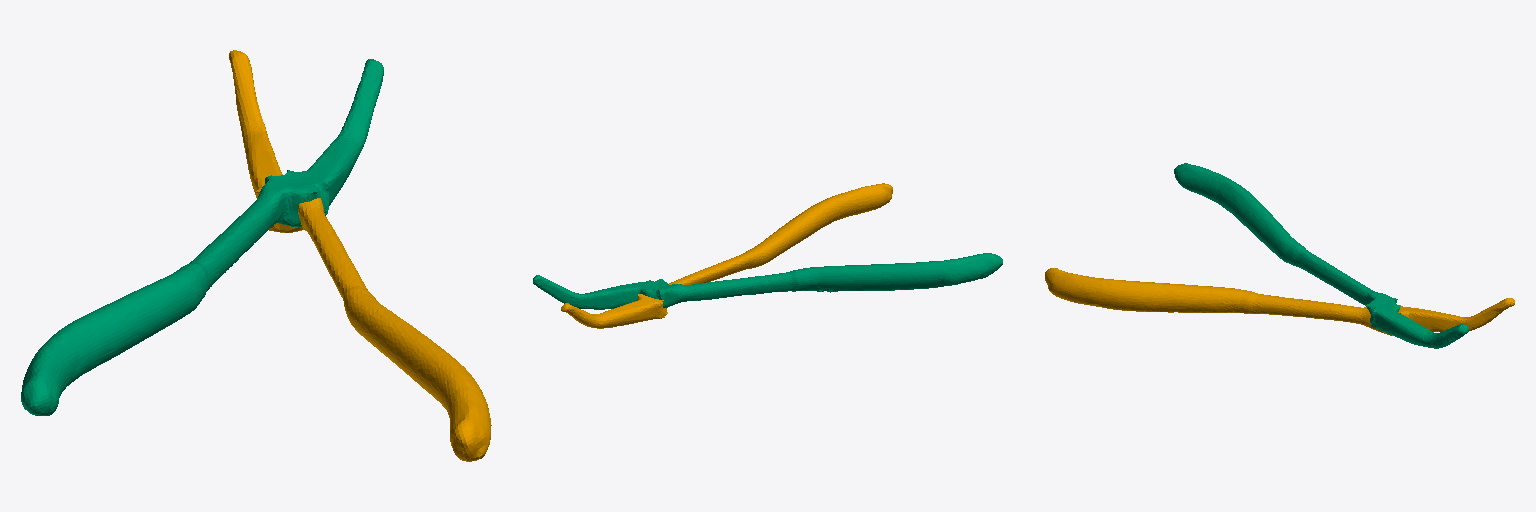
The robot description file, URDF, robot "pliers":
<?xml version="1.0"?>
<robot name="pliers">
  <link name ="rb0">
    <visual>
      <origin xyz='-0.095382 0.092912 -0.006890' rpy='-0.012197 0.205743 1.281811'/>
      <geometry>
        <mesh filename="meshes/plier_right.obj"  scale="1 1 1" />
      </geometry>
    </visual>

     <collision>
      <origin xyz='-0.095382 0.092912 -0.006890' rpy='-0.012197 0.205743 1.281811'/>
      <geometry>
        <mesh filename="meshes/plier_right.obj"  scale="1 1 1" />
      </geometry>
    </collision>

  </link>
  <joint name="j_0_1" type="revolute">
    <parent link="rb0"/>
    <child link="rb1"/>
    <origin xyz="0.0223569265859 0.133487863666 -0.0160430758933" rpy="0 0 0 "/>
    <axis xyz="0.131946910132 0.097630903871 0.986437134092"/>
    <limit effort="30" velocity="1.0" lower="-3.1416" upper="3.1416"/>
  </joint>
  <joint name="j_0_fixed" type="fixed">
    <parent link="rb1"/>
    <child link="rb1_marker"/>
      <origin xyz="-0.125186808686 -0.0532721485993 0.0220988416077" rpy="-3.10727506782 0.115711308822 -0.960168900302"/>
    <limit effort="30" velocity="1.0" lower="-3.1416" upper="3.1416"/>
  </joint>
  <link name ="rb1">
  </link>
  <link name ="rb1_marker">
    <visual>
      <origin xyz='-0.107652 -0.060779 -0.043692' rpy='-2.762002 -0.504377 -1.745148'/>
      <geometry>
        <mesh filename="meshes/plier_left.obj"  scale="1 1 1" />
      </geometry>
    </visual>

    <collision>
      <origin xyz='-0.107652 -0.060779 -0.043692' rpy='-2.762002 -0.504377 -1.745148'/>
      <geometry>
        <mesh filename="meshes/plier_left.obj"  scale="1 1 1" />
      </geometry>
    </collision>
  </link>
</robot>

--- Render facts (derived) ---
Views: 3 orthographic renders of the robot side by side, from view 1: azimuth 30°, elevation 25°; view 2: azimuth 150°, elevation 25°; view 3: azimuth 270°, elevation 25°.
Robot: pliers — 3 links, 2 joints (1 revolute, 1 fixed); root link rb0; default pose: every joint at zero.
Links seen in each view (by area): view 1: rb1_marker, rb0; view 2: rb1_marker, rb0; view 3: rb0, rb1_marker.
Link boxes in pixels (x1,y1,x2,y2): rb1_marker: (21, 59, 383, 415); rb0: (229, 50, 491, 461); rb1_marker: (533, 253, 1002, 309); rb0: (561, 183, 892, 328); rb0: (1045, 268, 1514, 335); rb1_marker: (1174, 163, 1468, 348).
Bounding box of the posed robot: 0.2419 × 0.2893 × 0.0341 m (x, y, z).
2 mesh visuals loaded from 2 distinct referenced files (2 OBJ).